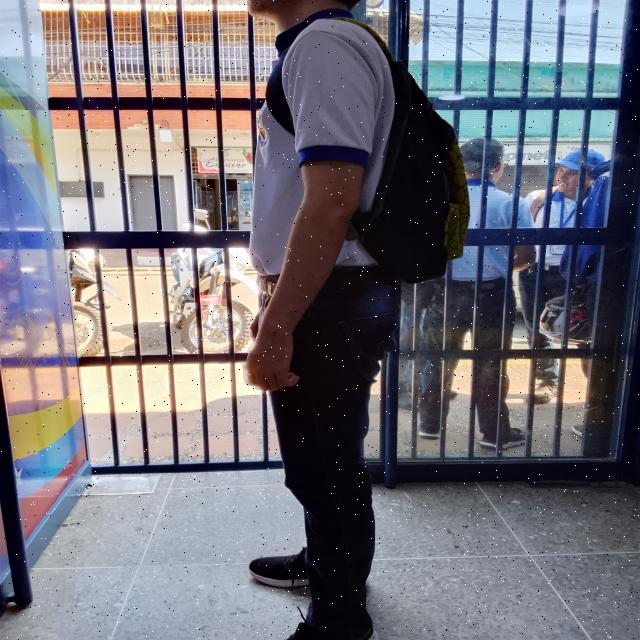carnet: (550, 230, 567, 254)
pantalon_oscuro: (260, 282, 402, 628)
uniforme_superior: (249, 8, 397, 277)
